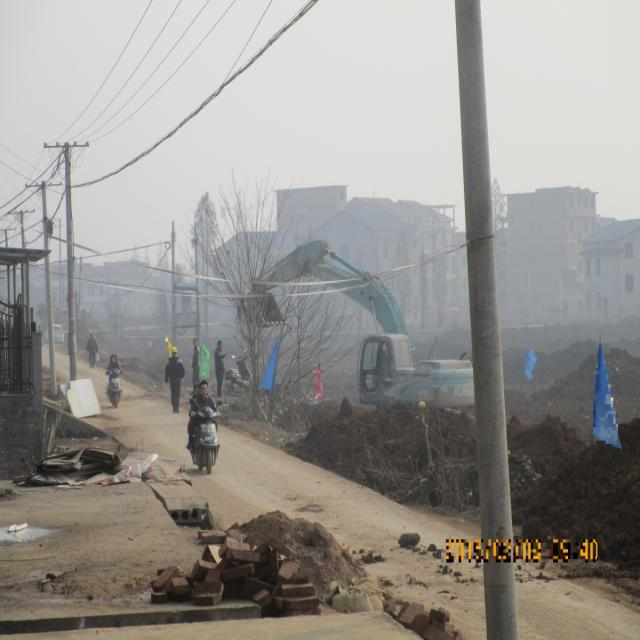excavator: (245, 238, 475, 416)
